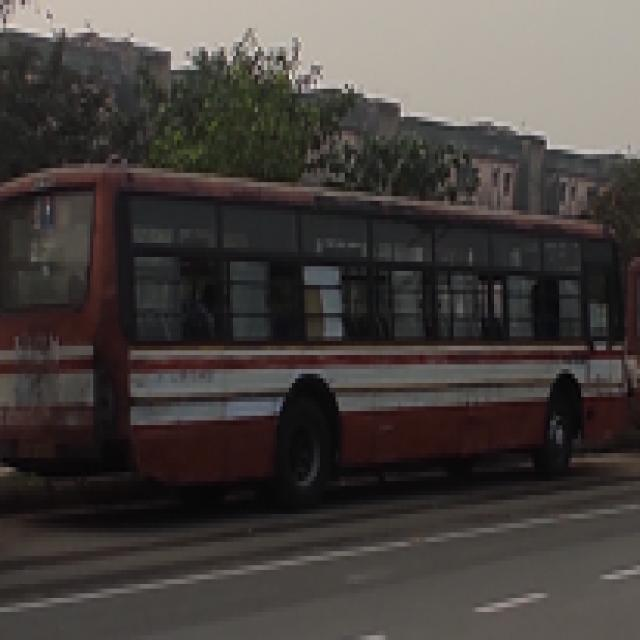bus: (3, 159, 631, 509)
